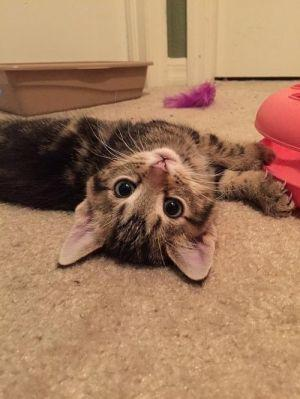bengal: (51, 140, 225, 293)
